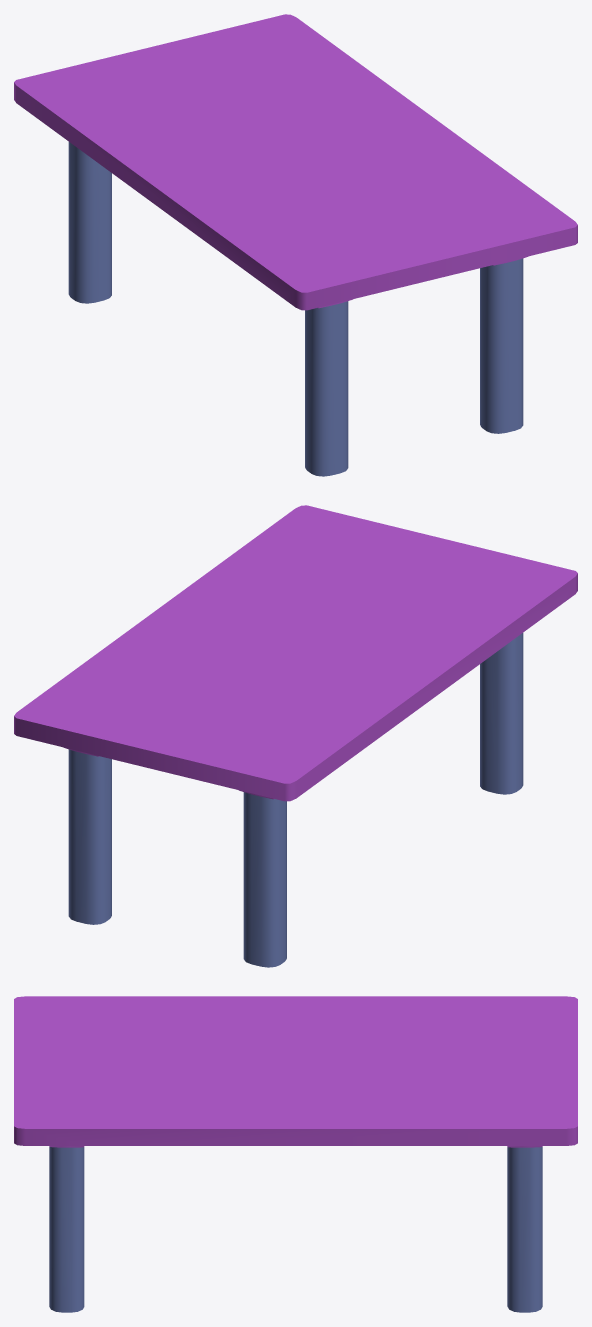
The model's file is NiceTable.fbx.
The picture shows the model from 3 angles, top to bottom: view 1: azimuth 30°, elevation 25°; view 2: azimuth 150°, elevation 25°; view 3: azimuth 270°, elevation 25°; orthographic projection. The views are drawn at different scales.
Parts seen in each view (by area): view 1: Cube; view 2: Cube; view 3: Cube.
Part boxes in pixels (x1,y1,x2,y2): Cube: [14, 14, 577, 476]; Cube: [14, 505, 577, 967]; Cube: [14, 996, 577, 1312].
Bounding box in the file's own units: 322 × 227 × 579.
